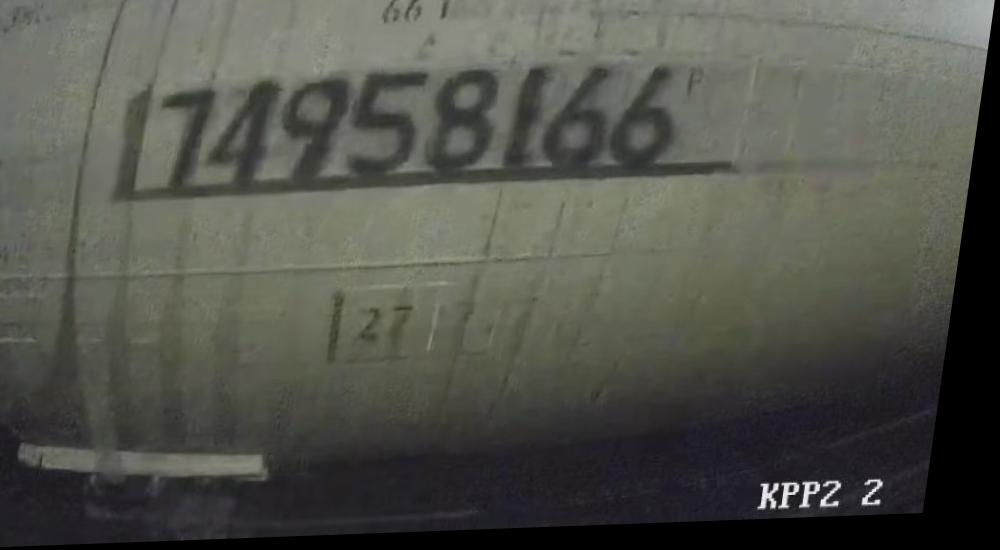Wagon-number: (149, 65, 697, 198)
